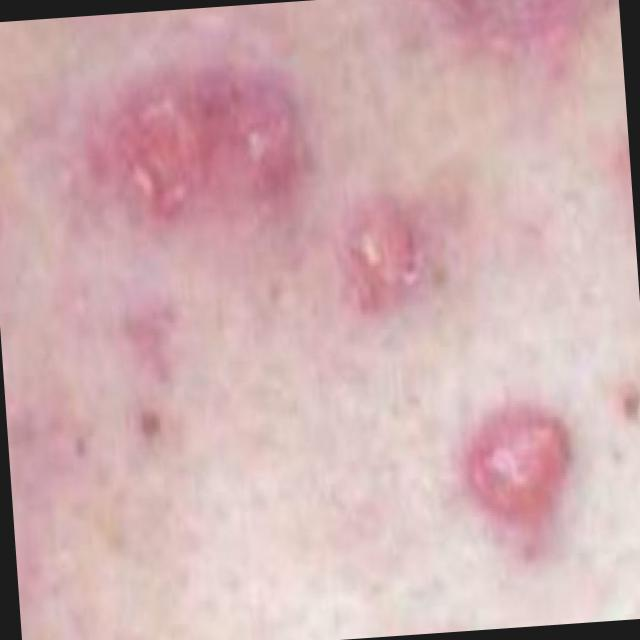nodule: (460, 411, 569, 532), (334, 185, 421, 318), (228, 92, 296, 201)
